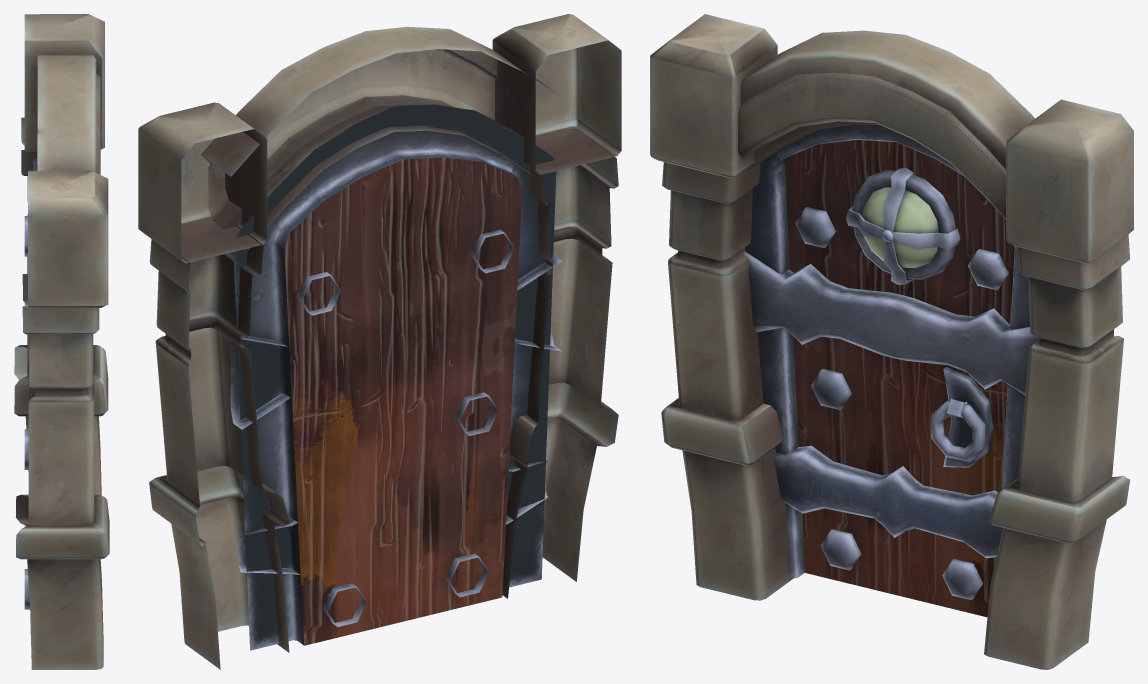
Rendered from Door.fbx.
3 renders of one model, left to right at view 1: azimuth 30°, elevation 25°; view 2: azimuth 150°, elevation 25°; view 3: azimuth 270°, elevation 25°, orthographic. The views are drawn at different scales.
Visible parts, largest first — view 1: Door1; view 2: Door1; view 3: Door1.
Part boxes in pixels (left/top/right/bottom): Door1: left=14, top=14, right=109, bottom=669; Door1: left=138, top=14, right=621, bottom=669; Door1: left=650, top=14, right=1133, bottom=669.
Size of the model in its own units: 133 by 252 by 195.
